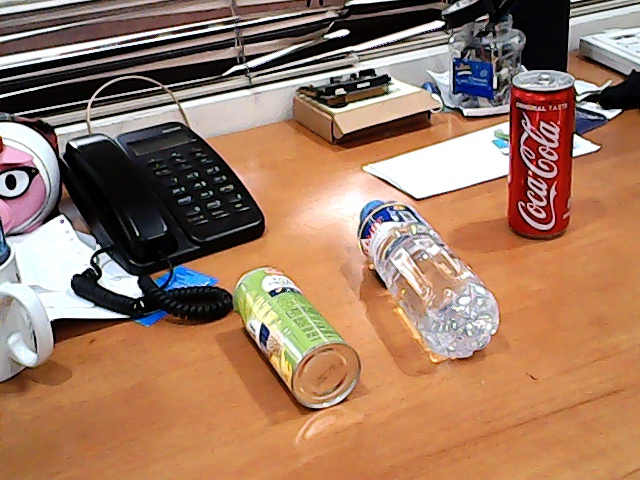Cola: (486, 58, 591, 261)
Pine Juice: (221, 255, 365, 429)
Summit Water: (335, 192, 507, 371)
